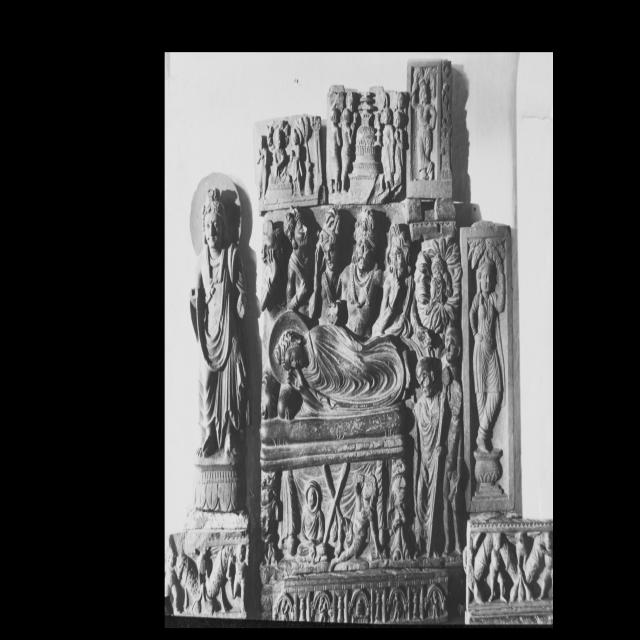buddha-pyre: (351, 100, 383, 192)
buddha-sleeping: (263, 313, 411, 564)
buddha-standing: (188, 177, 252, 518), (468, 233, 511, 493)
